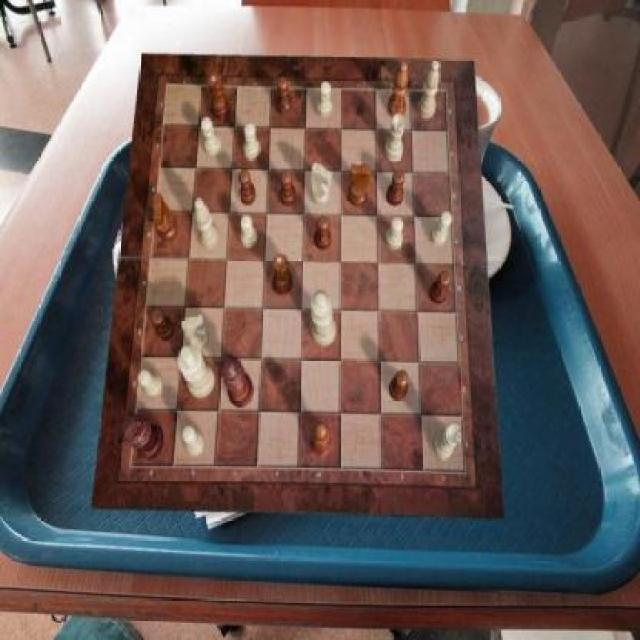bishop: (388, 62, 408, 120), (309, 423, 332, 457)
black-bishop: (123, 415, 164, 461)
black-king: (154, 194, 180, 243), (348, 164, 370, 208)
black-knight: (150, 309, 174, 342), (429, 270, 452, 304), (277, 77, 294, 117), (389, 371, 409, 402), (239, 170, 256, 206), (280, 170, 297, 206), (388, 170, 405, 206), (314, 215, 331, 250)
black-pawn: (220, 352, 254, 407)
black-queen: (208, 74, 230, 121), (274, 254, 294, 295)
black-rook: (418, 60, 441, 120), (195, 198, 220, 251)
white-bishop: (177, 344, 215, 398)
white-king: (182, 314, 209, 351), (310, 162, 332, 206)
white-knight: (429, 211, 452, 247), (202, 117, 222, 155), (183, 424, 206, 456), (137, 371, 163, 398), (243, 123, 260, 161), (240, 216, 258, 250), (386, 217, 404, 251), (317, 82, 333, 119)
white-pawn: (312, 289, 337, 347)
white-queen: (384, 114, 406, 161), (434, 424, 461, 460)
